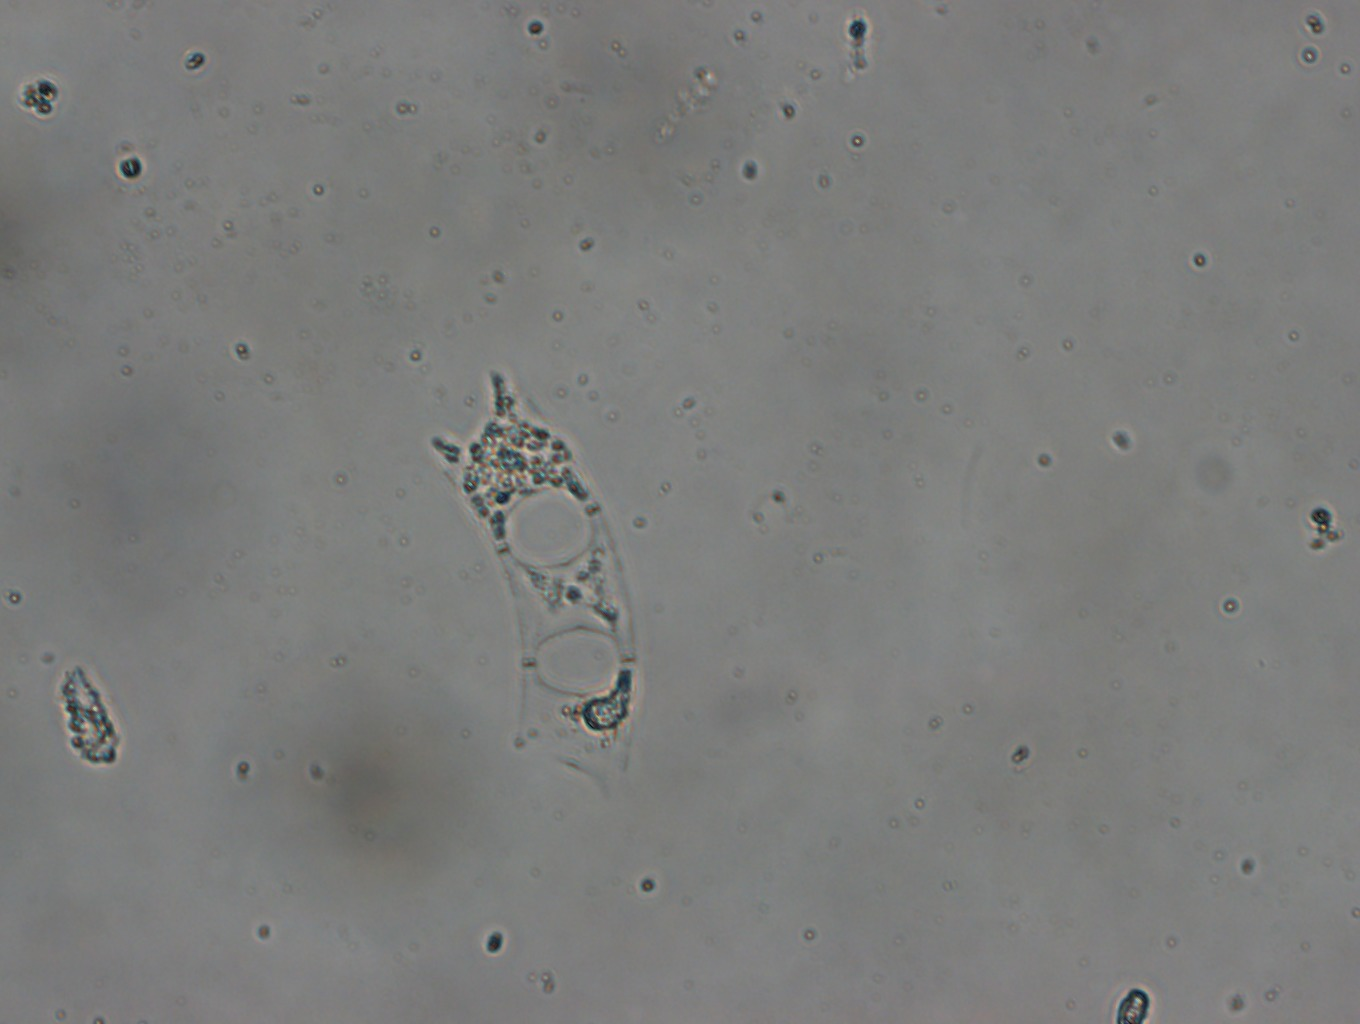eucampia: (400, 362, 659, 798)
